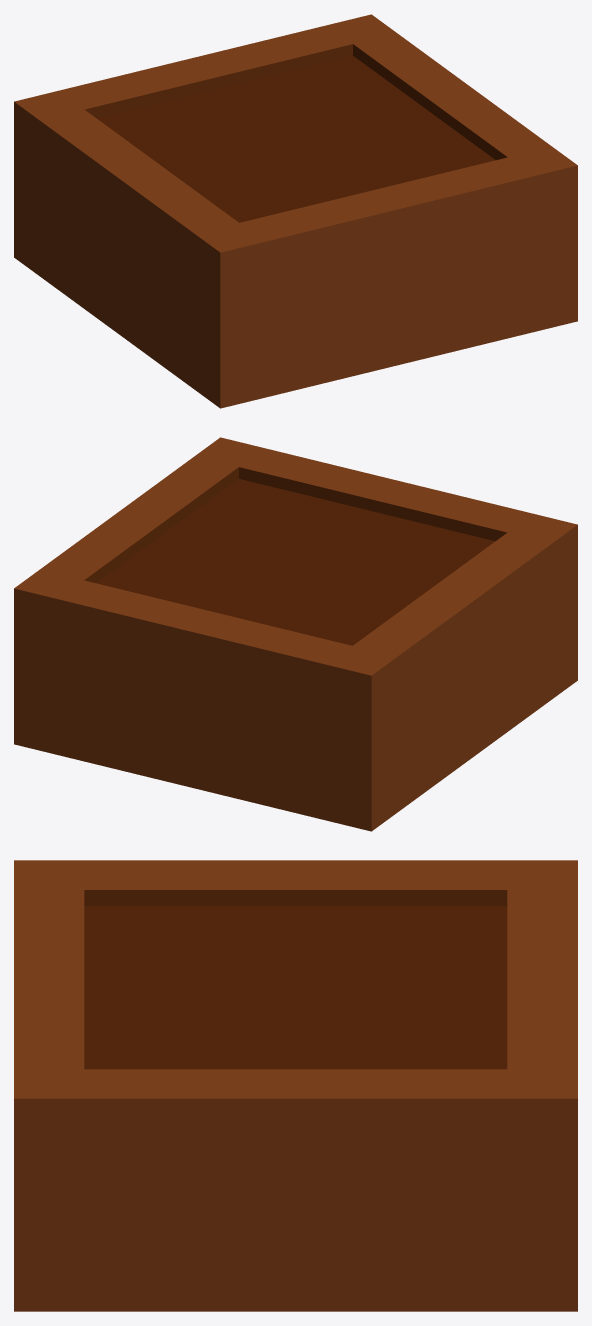
File: frame.obj
3 views of the same model, one above another, from view 1: azimuth 30°, elevation 25°; view 2: azimuth 150°, elevation 25°; view 3: azimuth 270°, elevation 25° (orthographic). The views are drawn at different scales.
Parts seen in each view (by area): view 1: frame_picture_frame; view 2: frame_picture_frame; view 3: frame_picture_frame.
Part boxes in pixels (x1,y1,x2,y2): frame_picture_frame: (14, 14, 577, 408); frame_picture_frame: (14, 437, 577, 831); frame_picture_frame: (14, 860, 577, 1311).
Size of the model in its own units: 0.12 by 0.05 by 0.12.
1 material, 1 textured.
